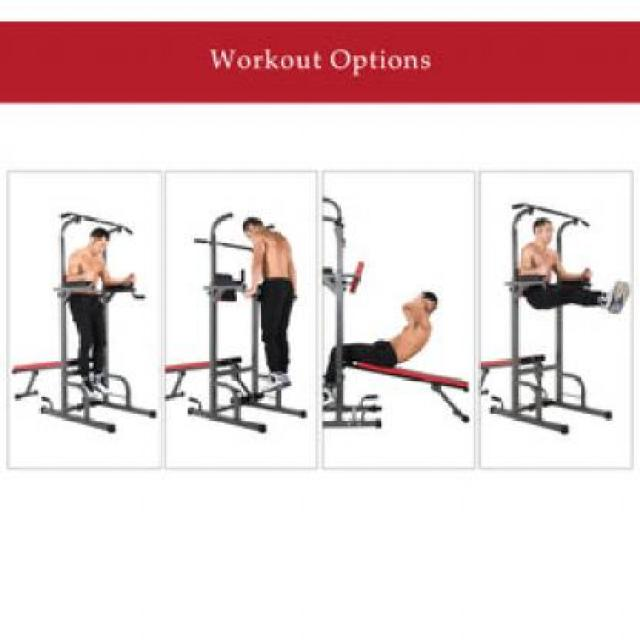chinning dipping: (511, 198, 629, 436), (211, 208, 311, 437), (57, 211, 157, 435)
